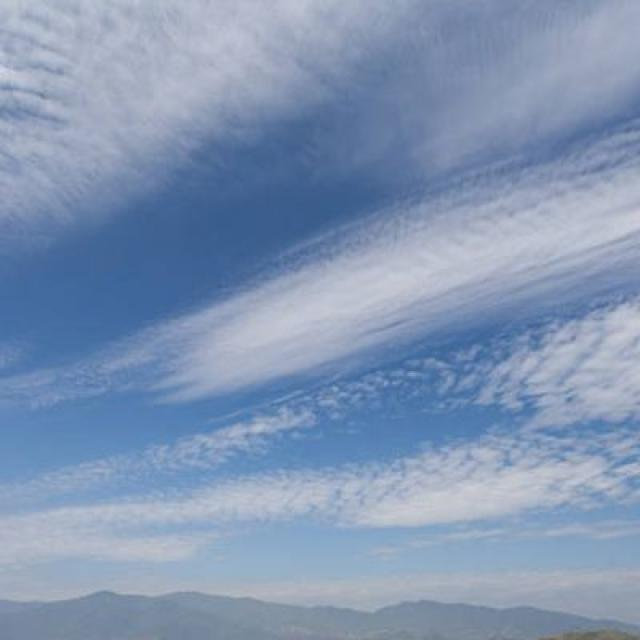Ac: (50, 101, 640, 427)
